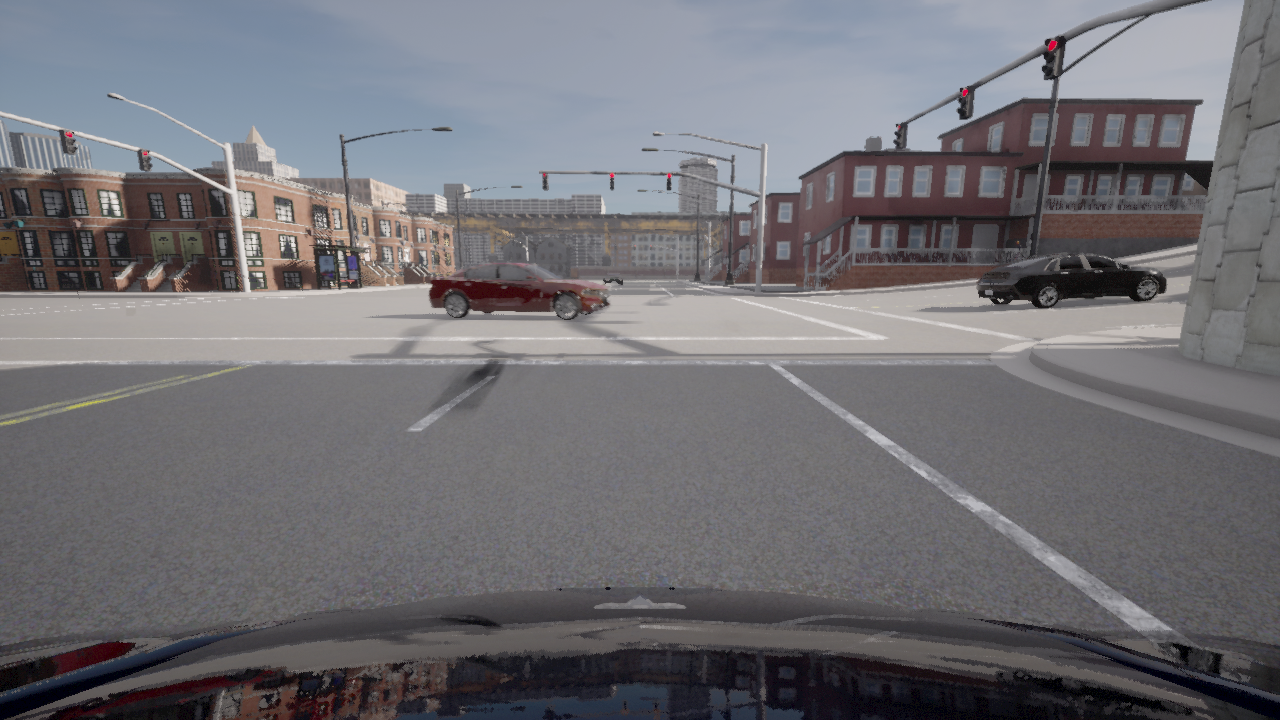cyclist: (0, 588, 1279, 719), (427, 261, 610, 320), (976, 253, 1166, 308), (601, 272, 623, 286)
pedestrian: (1010, 241, 1021, 261)
